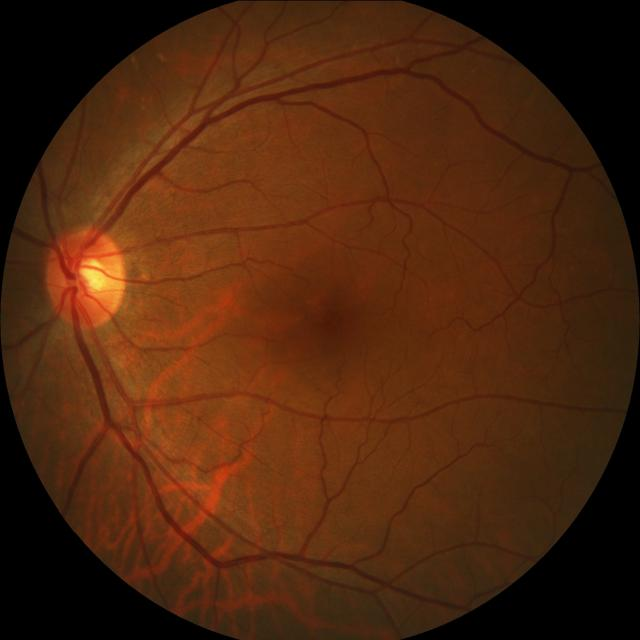OC: (68, 255, 108, 299)
OD: (46, 226, 130, 329)
